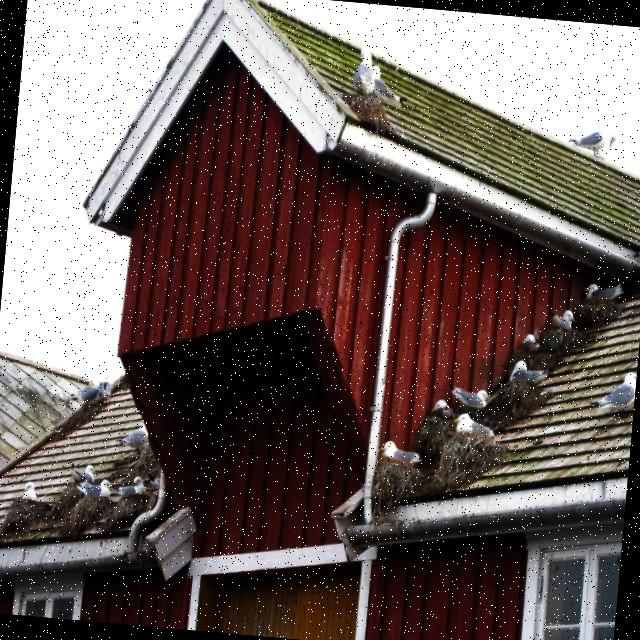bird: (0, 370, 112, 499), (431, 410, 516, 500), (124, 466, 174, 560), (350, 44, 411, 110), (333, 87, 403, 142), (587, 366, 637, 418), (68, 466, 125, 503), (567, 126, 616, 161), (68, 375, 113, 410), (444, 380, 491, 412), (508, 357, 550, 392), (377, 438, 425, 468), (118, 418, 151, 456), (582, 278, 626, 306), (114, 472, 150, 502), (548, 306, 576, 334), (69, 461, 99, 487), (428, 396, 456, 423), (518, 330, 543, 356)
